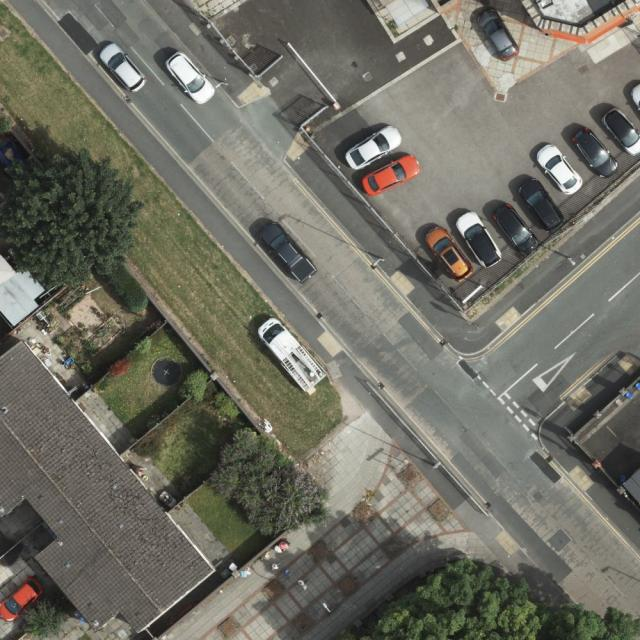roof: (1, 337, 216, 633)
